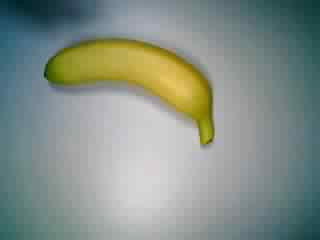banana: (41, 34, 220, 153)
